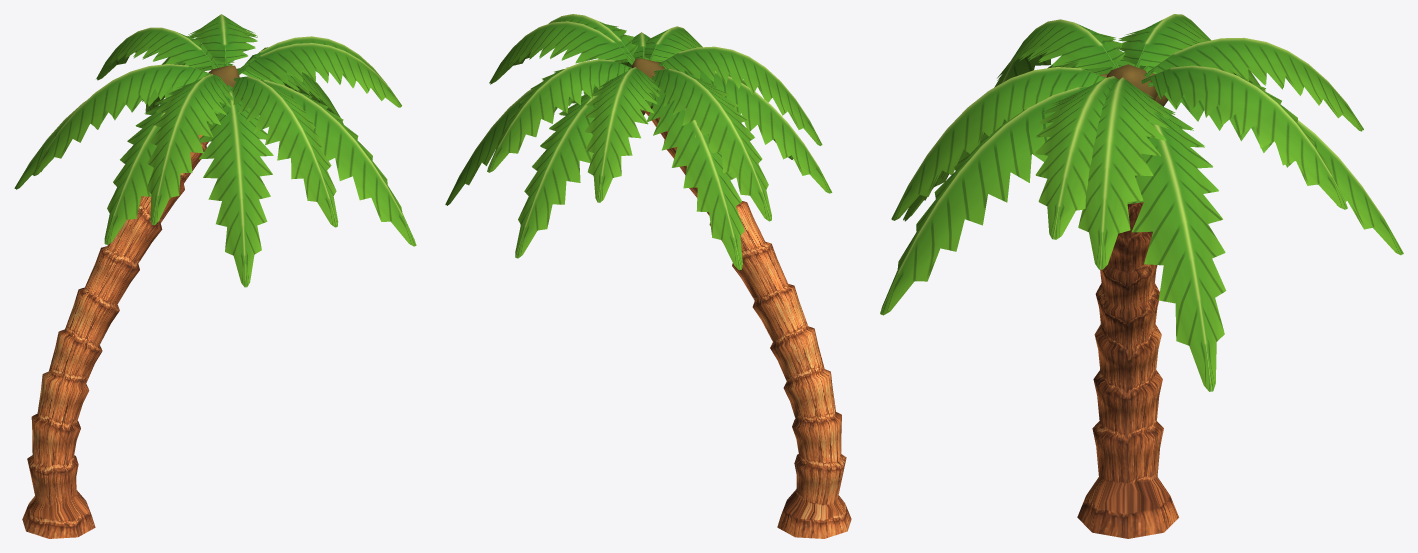
File: Kit_PalmB.obj
The picture shows the model from 3 angles, left to right: view 1: azimuth 30°, elevation 25°; view 2: azimuth 150°, elevation 25°; view 3: azimuth 270°, elevation 25°; orthographic projection. The views are drawn at different scales.
Parts seen in each view (by area): view 1: Kit_PalmB; view 2: Kit_PalmB; view 3: Kit_PalmB.
Boxes of the visible parts, left/top/right/bottom form: Kit_PalmB: left=14, top=14, right=416, bottom=538; Kit_PalmB: left=445, top=14, right=851, bottom=538; Kit_PalmB: left=880, top=14, right=1403, bottom=538.
Bounding box in the file's own units: 25.85 × 29.26 × 23.89.
Materials: 1 (1 with a texture image).
